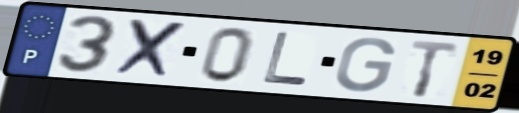0: (197, 24, 257, 85)
3: (54, 14, 121, 75)
G: (332, 35, 399, 94)
L: (260, 30, 311, 89)
T: (407, 38, 462, 100)
X: (112, 17, 192, 81)
